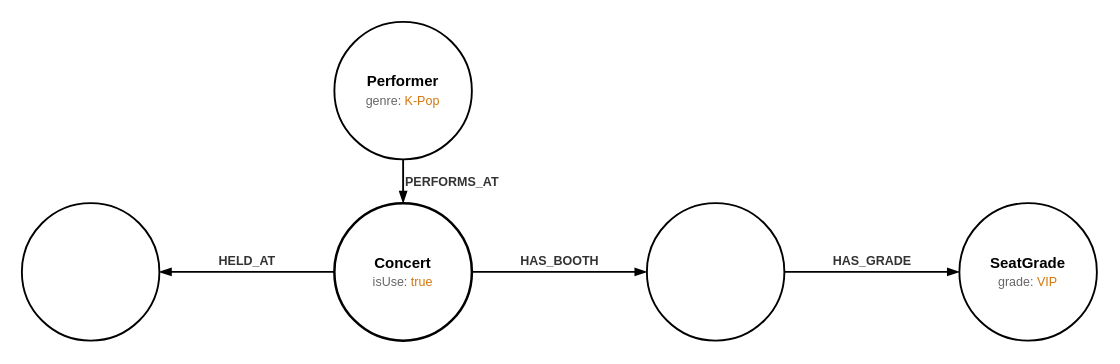
This 1120x364 diagram has some shape labels left out. Here are the shapes that lost their labels. From the top down, the box of each, then its label:
(20, 202, 160, 341): Venue city: Seoul
(645, 202, 785, 341): Booth
